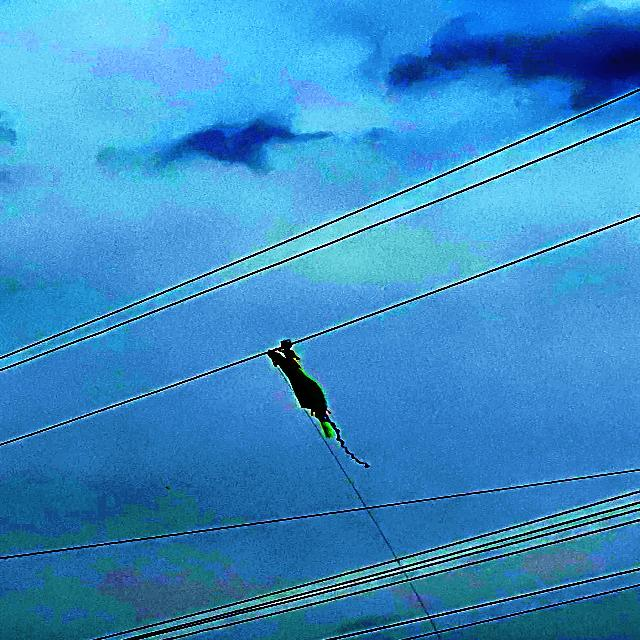obstruction: (264, 338, 376, 470)
wires: (6, 89, 639, 376), (107, 482, 639, 637), (2, 458, 639, 564), (299, 212, 638, 347), (2, 350, 270, 452), (318, 555, 639, 637)
